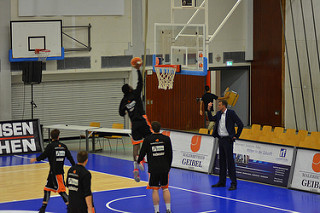basketball: (130, 56, 142, 69)
